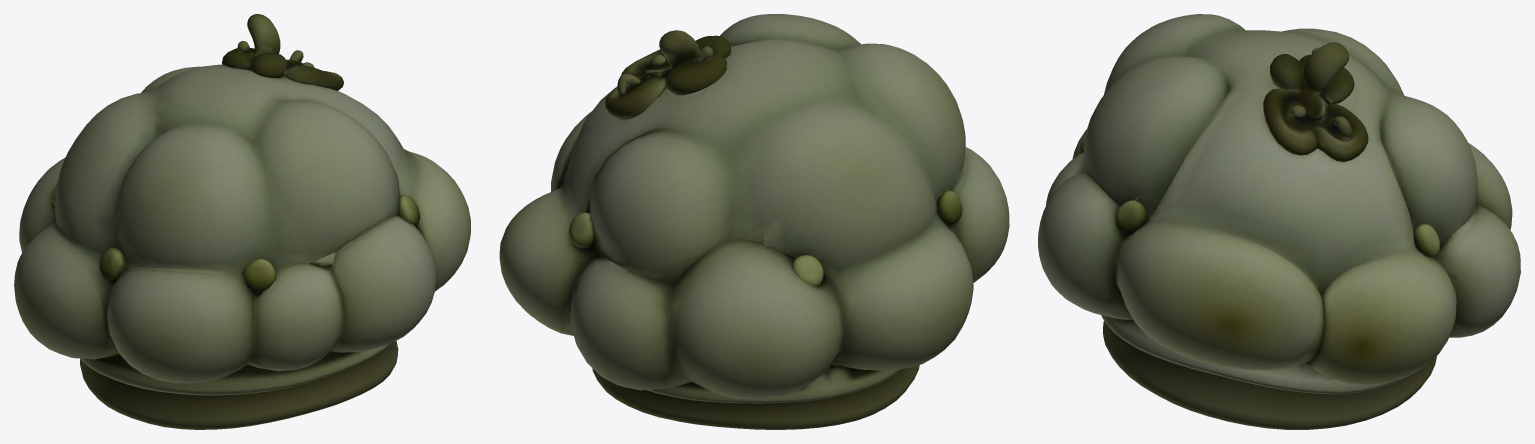
The model's file is acc_hat_sky_cloud_01.glb.
3 views of the same model, side by side, from view 1: azimuth 30°, elevation 25°; view 2: azimuth 150°, elevation 25°; view 3: azimuth 270°, elevation 25° (orthographic). The views are drawn at different scales.
Parts seen in each view (by area): view 1: acc_hat_sky_cloud_01; view 2: acc_hat_sky_cloud_01; view 3: acc_hat_sky_cloud_01.
Part boxes in pixels (<box>): acc_hat_sky_cloud_01: <box>14,14,470,429</box>; acc_hat_sky_cloud_01: <box>499,14,1009,429</box>; acc_hat_sky_cloud_01: <box>1038,14,1520,429</box>.
Size of the model in its own units: 0.3012 by 0.24 by 0.3006.
1 material, 1 textured.
